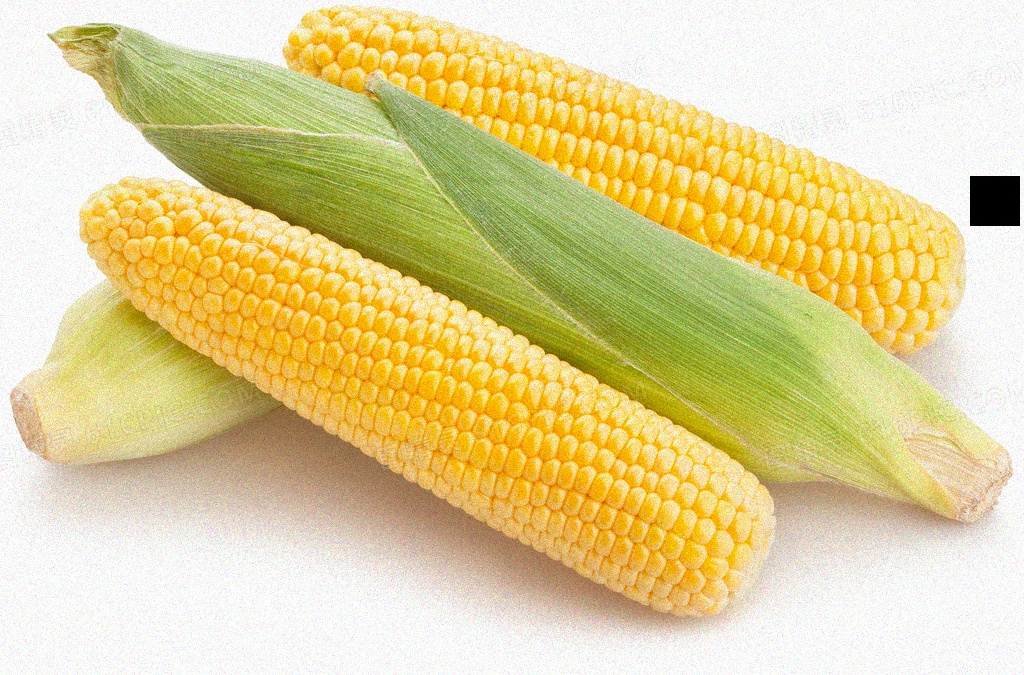corn: (76, 175, 776, 617), (283, 4, 967, 358)
corn_plant: (54, 34, 1009, 517)
